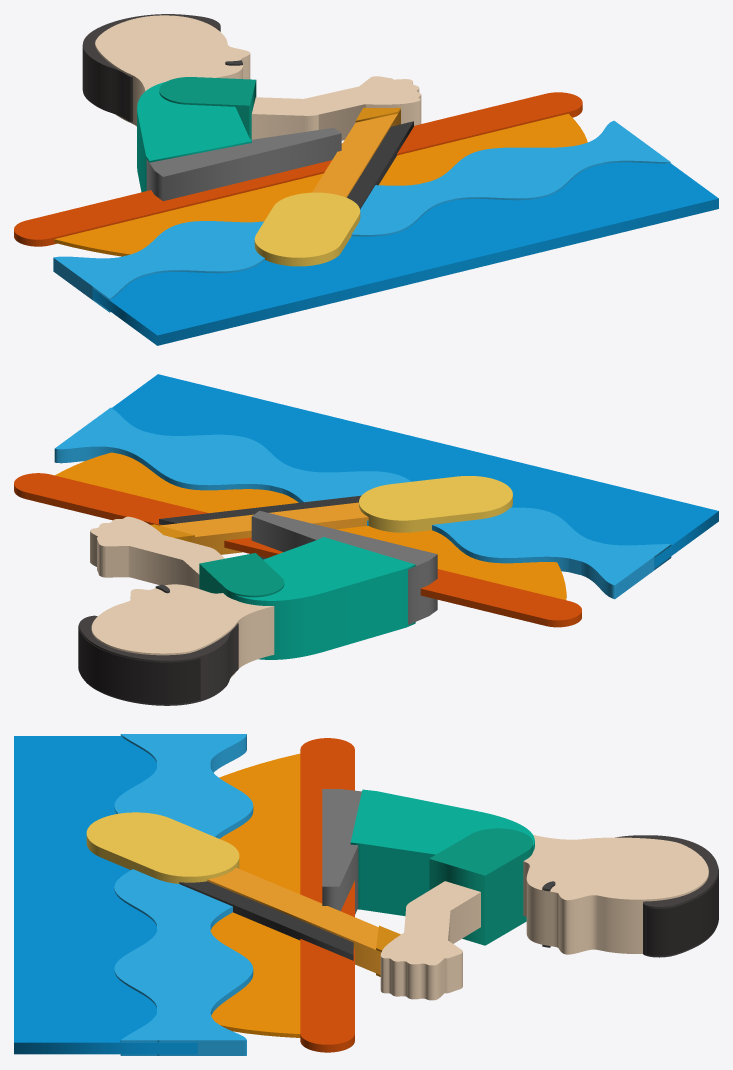
File: emoji_u1f6a3_1f3fb_200d_2642.glb
3 views of the same model, one above another, from view 1: azimuth 30°, elevation 25°; view 2: azimuth 150°, elevation 25°; view 3: azimuth 270°, elevation 25° (orthographic). The views are drawn at different scales.
Visible parts, largest first — view 1: emoji_u1f6a3_1f3fb_200d_2642; view 2: emoji_u1f6a3_1f3fb_200d_2642; view 3: emoji_u1f6a3_1f3fb_200d_2642.
Part boxes in pixels (x1,y1,x2,y2): emoji_u1f6a3_1f3fb_200d_2642: (14, 14, 718, 345); emoji_u1f6a3_1f3fb_200d_2642: (14, 374, 718, 705); emoji_u1f6a3_1f3fb_200d_2642: (14, 734, 718, 1055).
Bounding box in the file's own units: 0.0338 × 0.0036 × 0.0329.
